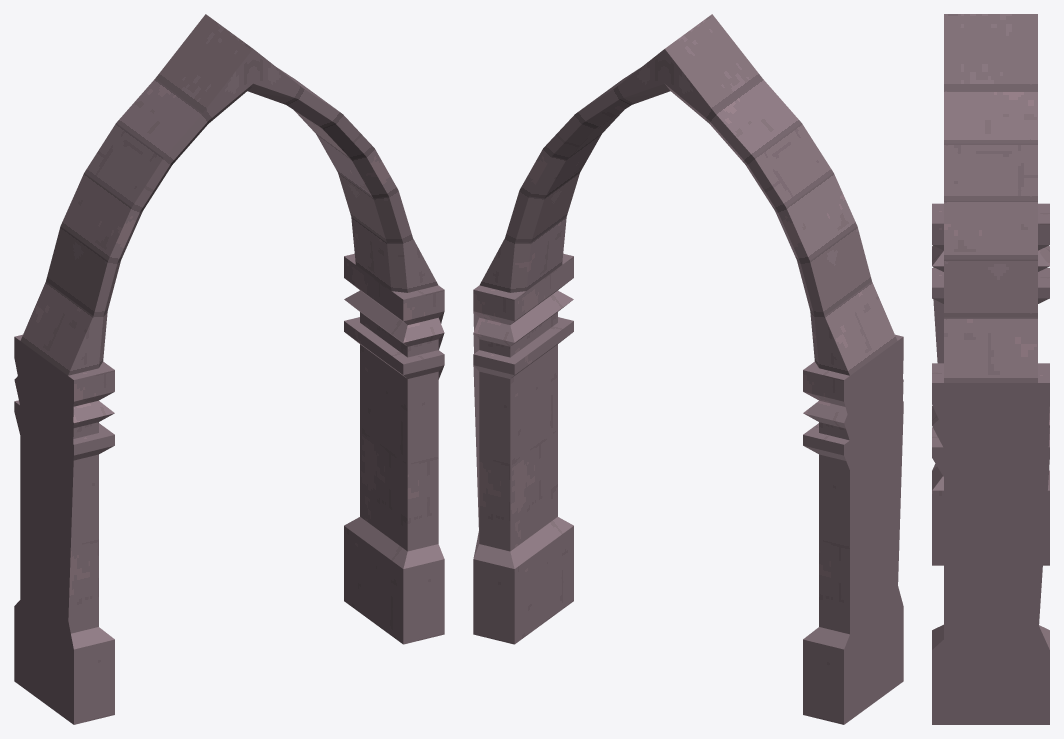
Rendered from deckenbogen_b.glb.
3 renders of one model, left to right at view 1: azimuth 30°, elevation 25°; view 2: azimuth 150°, elevation 25°; view 3: azimuth 270°, elevation 25°, orthographic.
Visible parts, largest first — view 1: bogen, pfeiler_l, pfeiler_r; view 2: bogen, pfeiler_r, pfeiler_l; view 3: pfeiler_r, bogen, pfeiler_l.
Part boxes in pixels (left/top/right/bottom): bogen: left=20, top=14, right=438, bottom=375; pfeiler_l: left=14, top=334, right=114, bottom=724; pfeiler_r: left=344, top=253, right=444, bottom=644; bogen: left=479, top=14, right=897, bottom=375; pfeiler_r: left=473, top=253, right=573, bottom=644; pfeiler_l: left=803, top=334, right=903, bottom=724; pfeiler_r: left=932, top=363, right=1049, bottom=724; bogen: left=944, top=14, right=1037, bottom=382; pfeiler_l: left=932, top=203, right=1049, bottom=565.
Bounding box in the file's own units: 2.25 × 3.63 × 0.625.
1 material, 1 textured.
